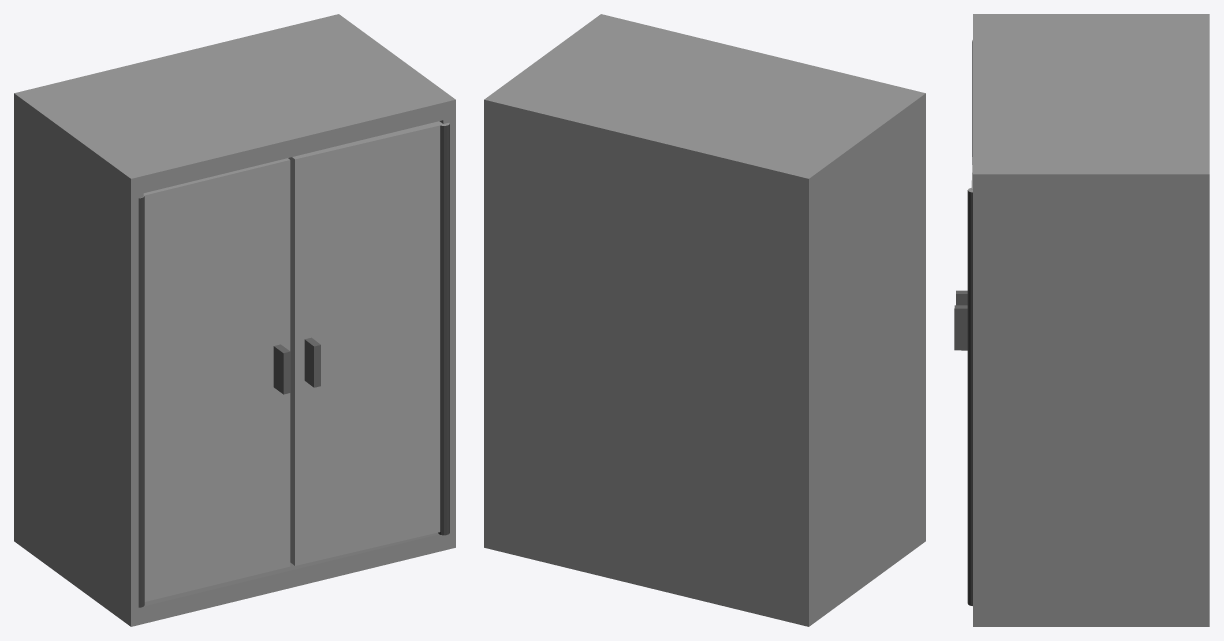
File: Cabinet_closed.fbx
3 views of the same model, side by side, from view 1: azimuth 30°, elevation 25°; view 2: azimuth 150°, elevation 25°; view 3: azimuth 270°, elevation 25° (orthographic).
Parts seen in each view (by area): view 1: polySurface4; view 2: polySurface4; view 3: polySurface4.
Boxes of the visible parts, left/top/right/bottom form: polySurface4: left=14, top=14, right=455, bottom=626; polySurface4: left=484, top=14, right=925, bottom=626; polySurface4: left=954, top=14, right=1209, bottom=626.
Bounding box in the file's own units: 28.14 × 37.09 × 18.93.
